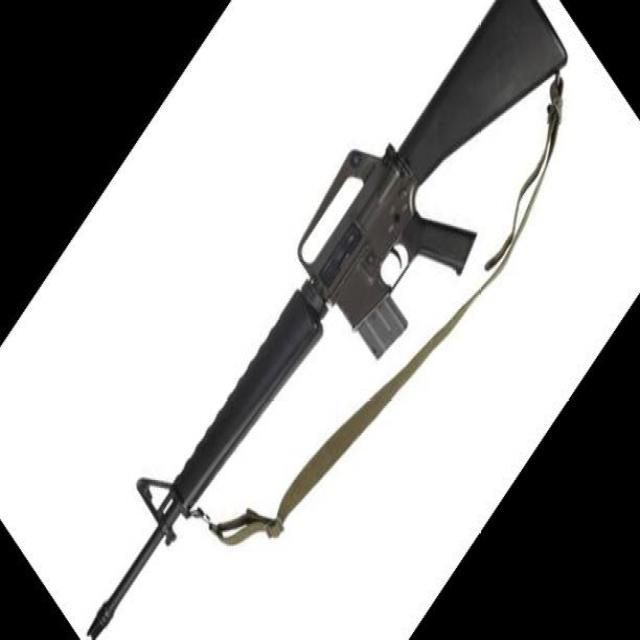weapon: (86, 1, 569, 640)
